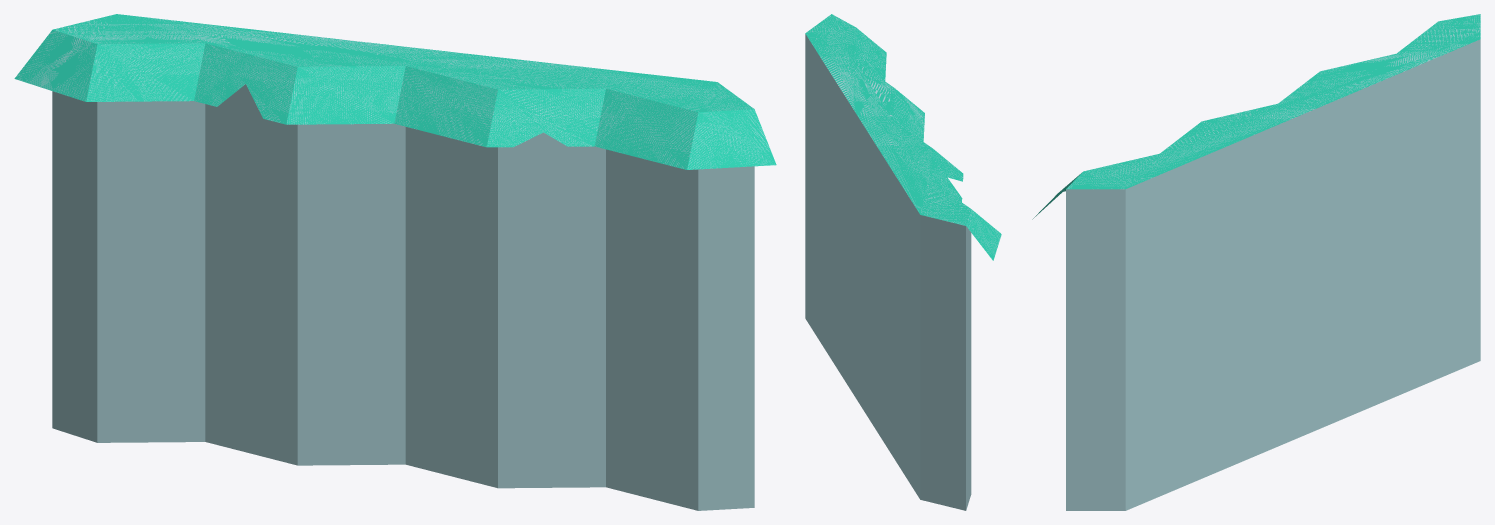
Rendered from cliff_topDiagonal_stone.obj.
3 renders of one model, left to right at view 1: azimuth 30°, elevation 25°; view 2: azimuth 150°, elevation 25°; view 3: azimuth 270°, elevation 25°, orthographic. The views are drawn at different scales.
Visible parts, largest first — view 1: cliff_topDiagonal_stone; view 2: cliff_topDiagonal_stone; view 3: cliff_topDiagonal_stone.
Boxes of the visible parts, bbox=[...] form: cliff_topDiagonal_stone: bbox=[14, 14, 776, 510]; cliff_topDiagonal_stone: bbox=[805, 14, 1001, 510]; cliff_topDiagonal_stone: bbox=[1032, 14, 1480, 510].
Bounding box in the file's own units: 1.27 × 1 × 1.27.
